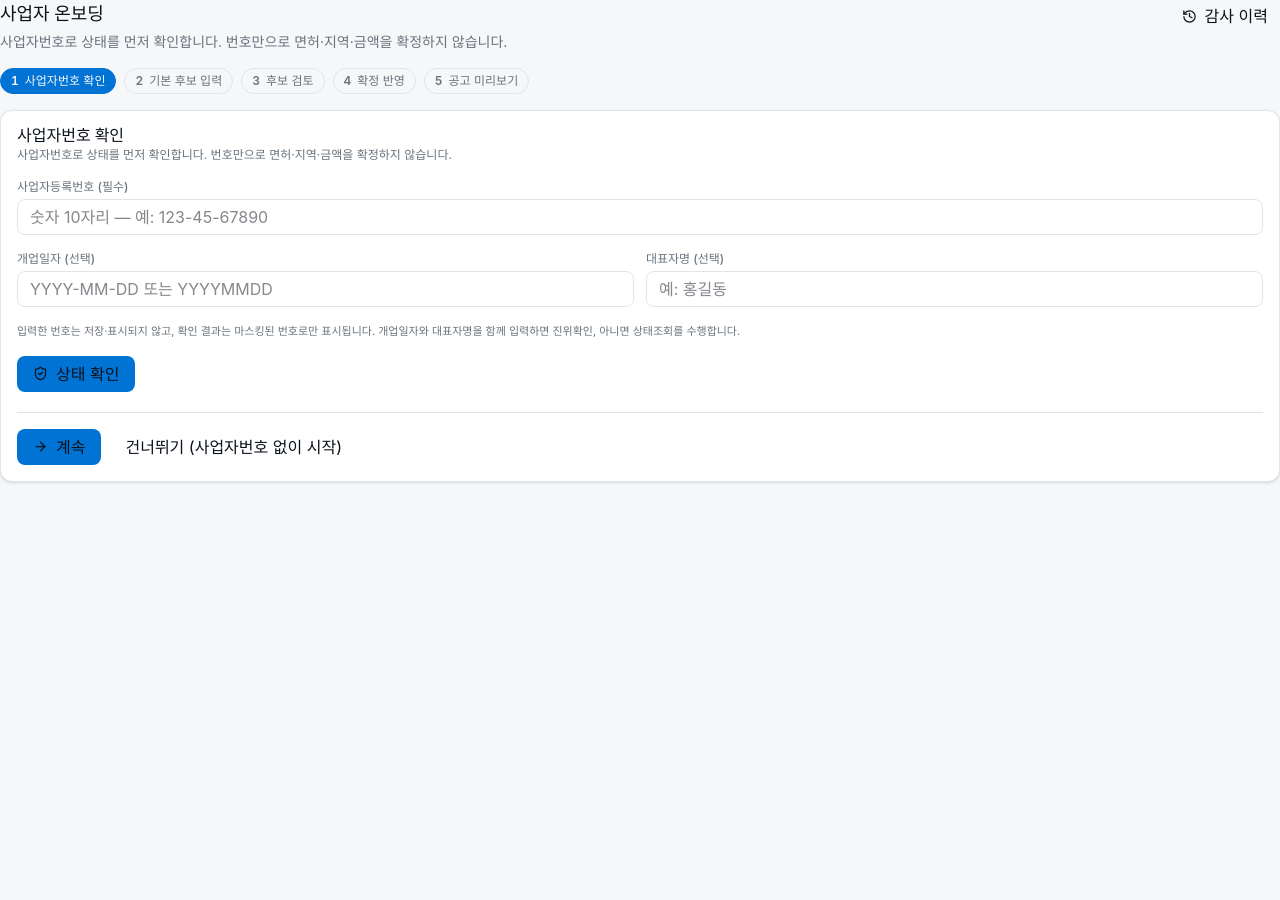
Test case: OnboardingWizard › 모든 후보를 확정 아님(draft) 상태로 표시하고, 확정 반영 버튼은 수락 전 비활성이다
The image size is (1280, 900).
Click the button "건너뛰기 (사업자번호 없이 시작)" at x=234, y=446, box [110, 428, 358, 464]
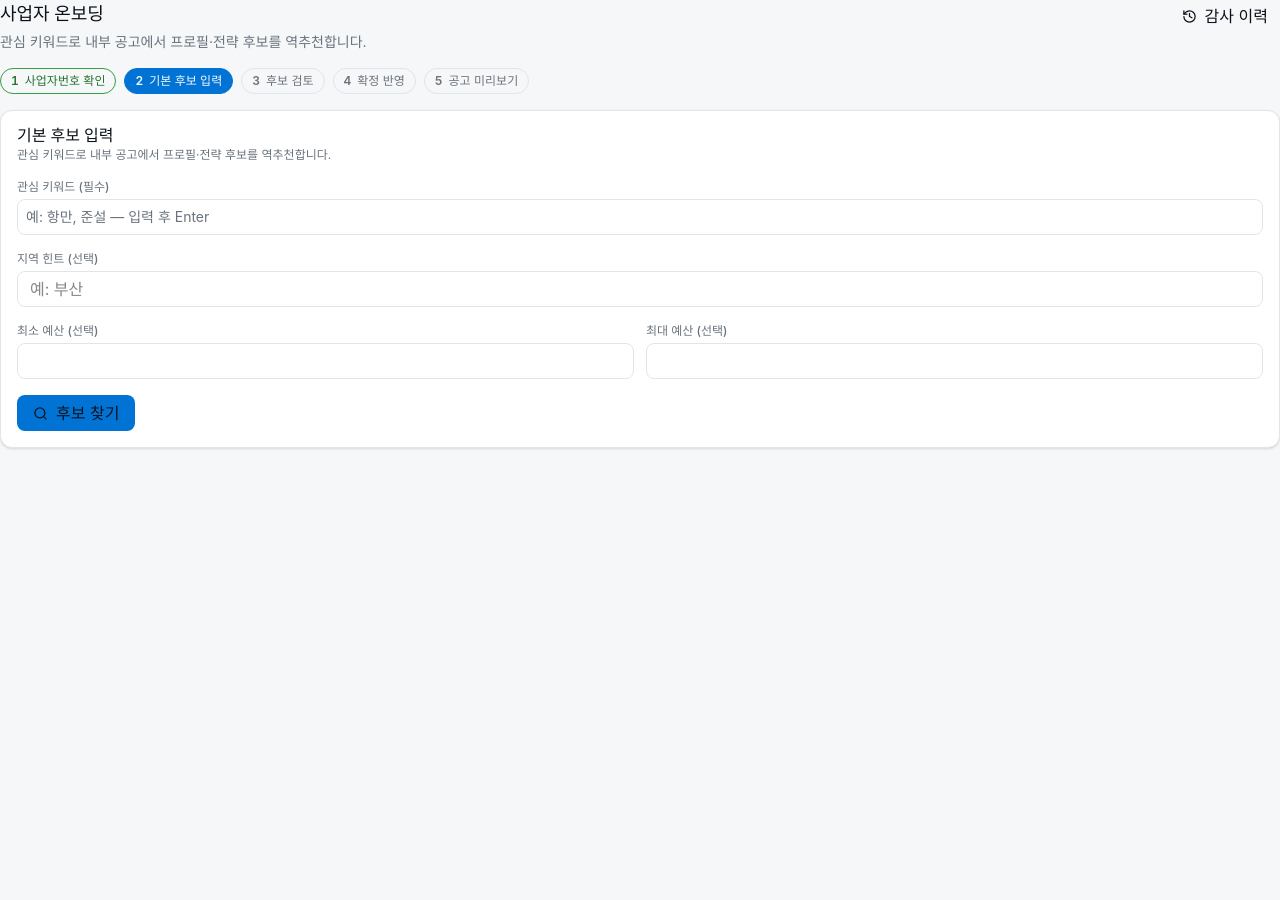
Type "항만" into the field labelled "관심 키워드 (필수)" at x=640, y=217, box [26, 207, 1254, 227]
Then press Enter
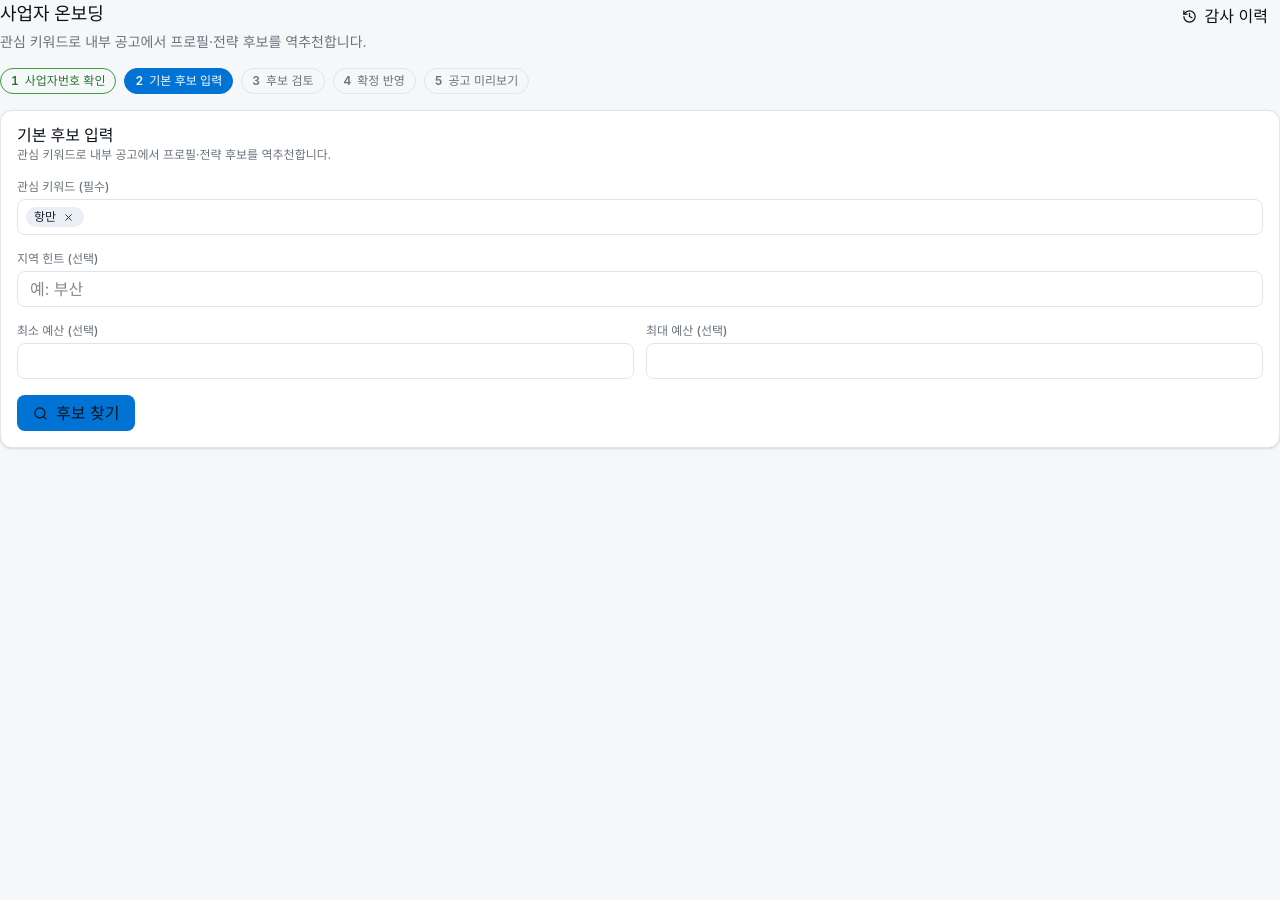
Click the button "후보 찾기" at x=76, y=413, box [17, 395, 135, 431]
(page scrolled)
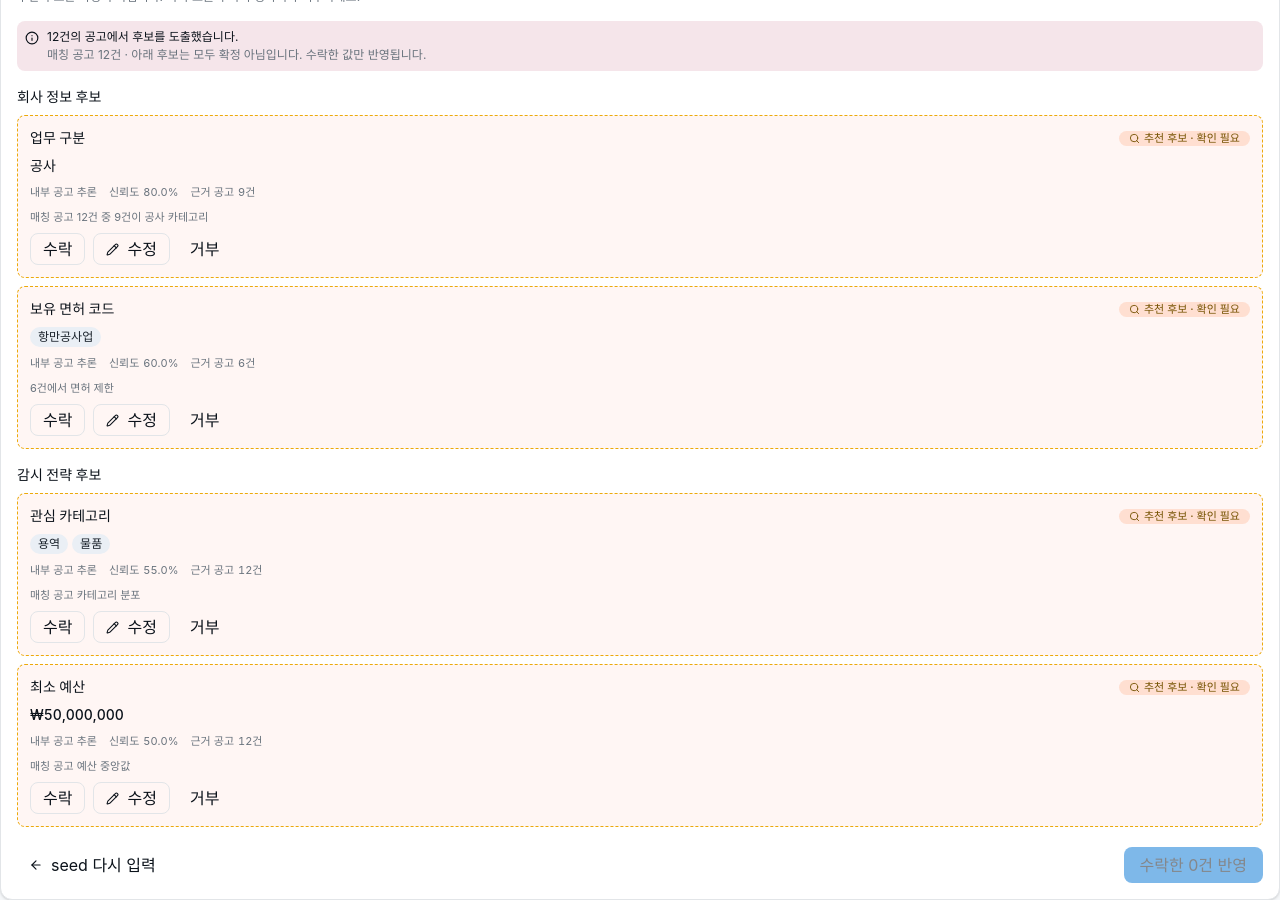
Expected: the text "추천 후보 · 확인 필요" is shown 4 times, [1119, 130, 1250, 146]; [1119, 302, 1250, 316]; [1119, 508, 1250, 524]; [1119, 680, 1250, 694]
Expected: the text "확정 아님" is shown, [219, 47, 266, 62]
Expected: the button "수락한 0건 반영" is disabled, [1124, 847, 1263, 883]
